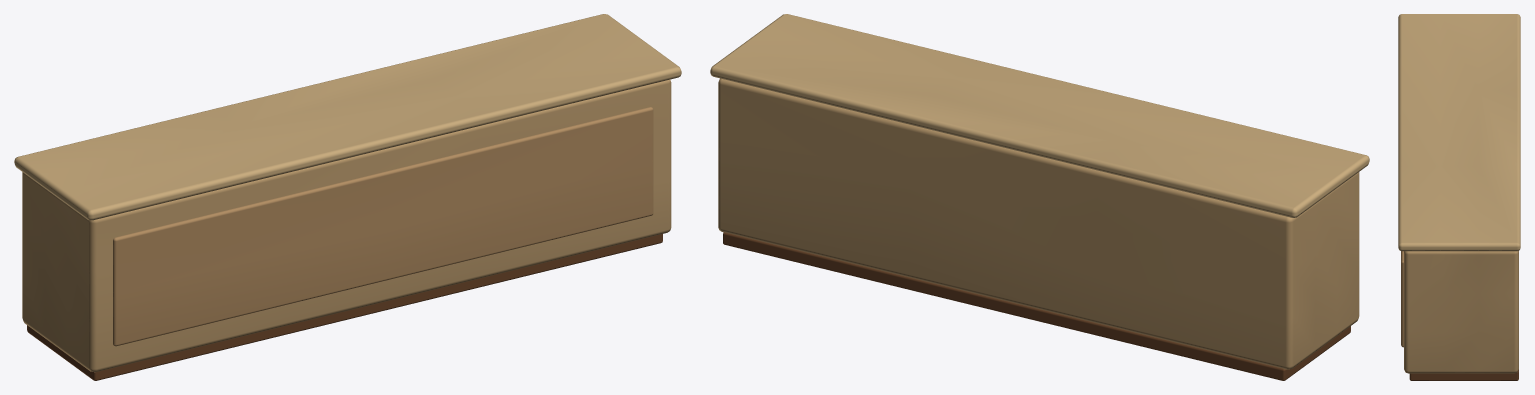
Rendered from furn_display_shelf.glb.
3 renders of one model, left to right at view 1: azimuth 30°, elevation 25°; view 2: azimuth 150°, elevation 25°; view 3: azimuth 270°, elevation 25°, orthographic. The views are drawn at different scales.
Parts seen in each view (by area): view 1: furn_display_shelf_main; view 2: furn_display_shelf_main; view 3: furn_display_shelf_main.
Boxes of the visible parts, left/top/right/bottom form: furn_display_shelf_main: left=14, top=14, right=681, bottom=380; furn_display_shelf_main: left=710, top=14, right=1369, bottom=380; furn_display_shelf_main: left=1398, top=14, right=1520, bottom=380.
Size of the model in its own units: 2.86 by 0.82 by 0.64.
